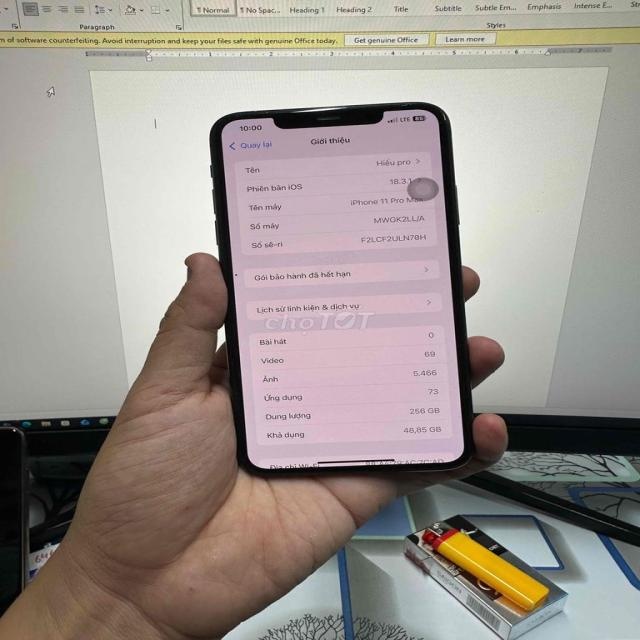gen_11: (200, 101, 477, 482)
